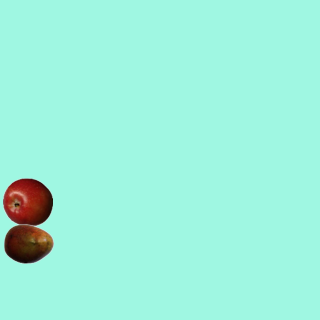Apple Braeburn: (2, 177, 52, 227)
Mango Red: (3, 218, 53, 268)
